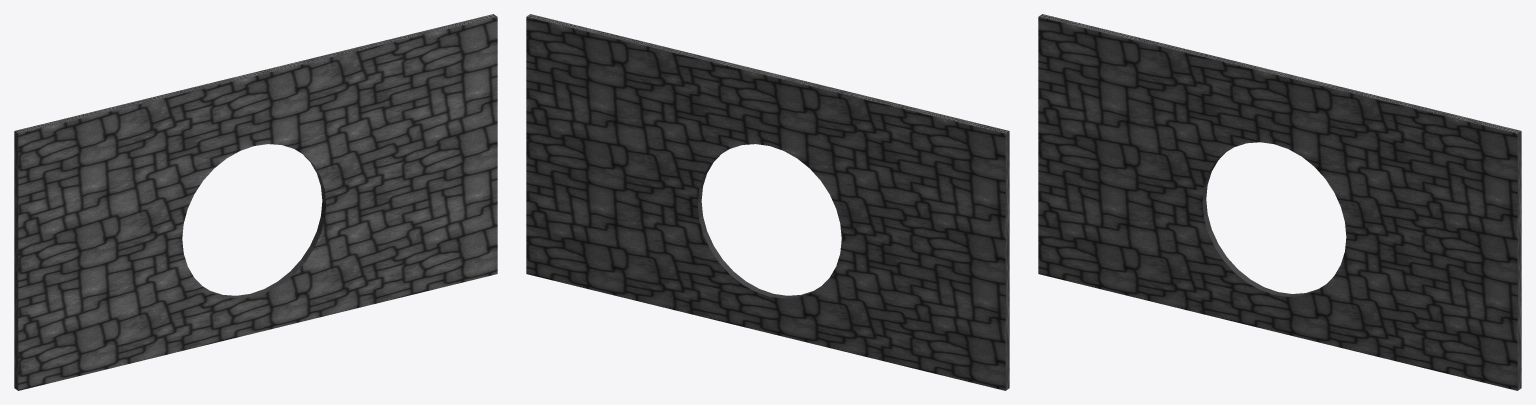
Rendered from Murlion.fbx.
The picture shows the model from 3 angles, left to right: view 1: azimuth 30°, elevation 25°; view 2: azimuth 150°, elevation 25°; view 3: azimuth 330°, elevation 25°; orthographic projection.
Visible parts, largest first — view 1: Cube.010; view 2: Cube.010; view 3: Cube.010.
Part boxes in pixels (<box>): Cube.010: <box>14,14,497,390</box>; Cube.010: <box>526,14,1009,390</box>; Cube.010: <box>1038,14,1521,390</box>.
Size of the model in its own units: 4993 by 2560 by 70.88.
